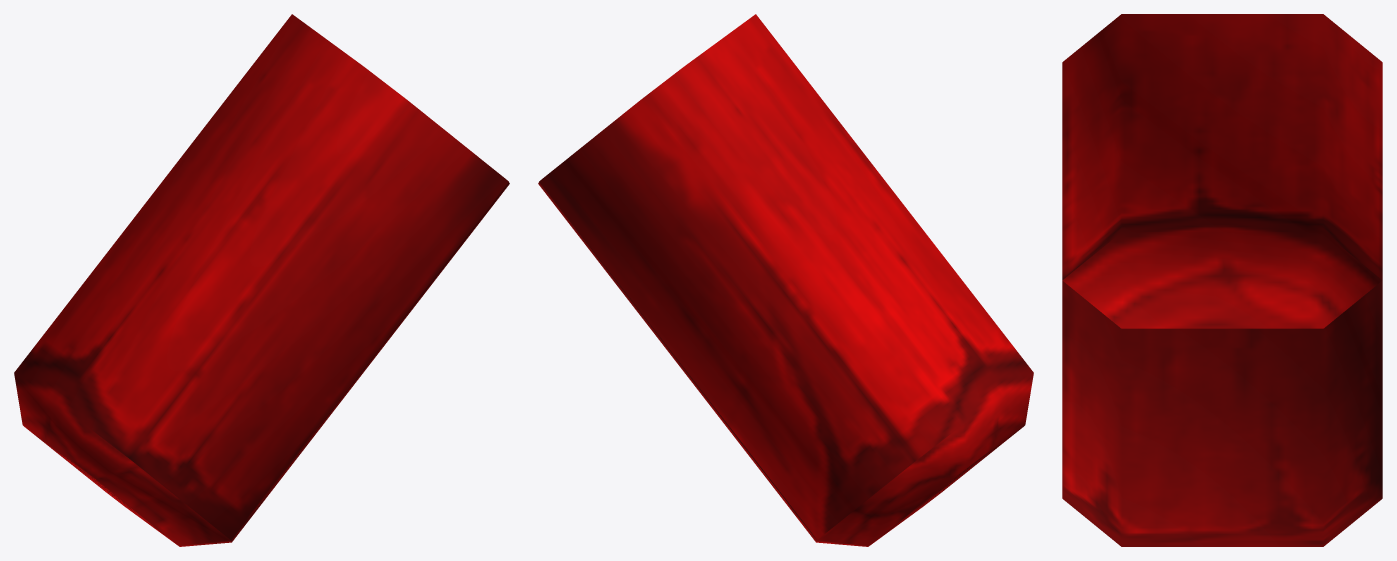
File: RoofCornerLeft01.fbx
3 views of the same model, side by side, from view 1: azimuth 30°, elevation 25°; view 2: azimuth 150°, elevation 25°; view 3: azimuth 270°, elevation 25° (orthographic). The views are drawn at different scales.
Visible parts, largest first — view 1: RoofCornerLeft01; view 2: RoofCornerLeft01; view 3: RoofCornerLeft01.
Boxes of the visible parts, bbox=[...] form: RoofCornerLeft01: bbox=[14, 14, 509, 546]; RoofCornerLeft01: bbox=[538, 14, 1033, 546]; RoofCornerLeft01: bbox=[1062, 14, 1382, 546].
Size of the model in its own units: 0.3839 by 0.3839 by 0.1788.
